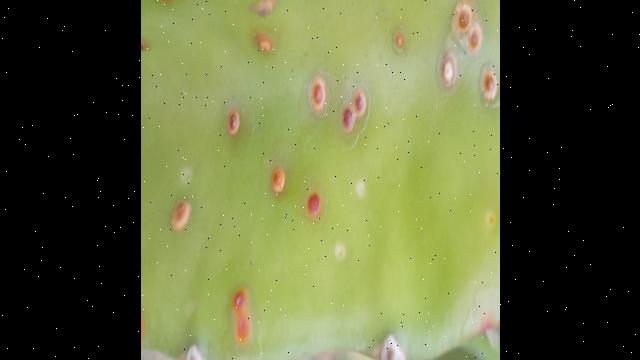stemcanker: (227, 281, 255, 343), (301, 67, 332, 122), (168, 192, 197, 240), (436, 45, 462, 96), (248, 27, 282, 61), (304, 184, 330, 226), (222, 105, 250, 142), (265, 161, 289, 200), (450, 1, 477, 35), (347, 84, 371, 121), (462, 22, 487, 57), (477, 65, 498, 106), (338, 104, 362, 139), (390, 27, 410, 58)
